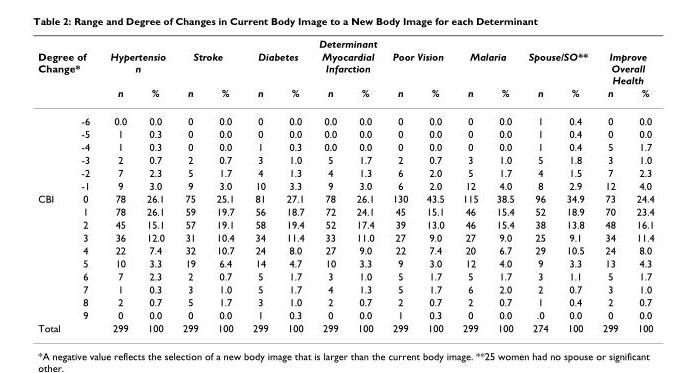table: (37, 37, 653, 333)
table column: (556, 37, 594, 333), (99, 37, 136, 333), (136, 37, 173, 333), (206, 37, 242, 333), (276, 37, 312, 333), (346, 37, 382, 333), (416, 37, 452, 333), (520, 37, 556, 333), (242, 37, 276, 333), (312, 37, 346, 333), (382, 37, 416, 333), (452, 37, 486, 333), (486, 37, 520, 333), (37, 37, 70, 333), (173, 37, 206, 333), (594, 37, 626, 333), (70, 37, 99, 333), (626, 37, 653, 333)
table column header: (37, 37, 653, 106)
table row: (37, 49, 653, 85), (37, 85, 653, 106), (37, 106, 653, 127), (37, 127, 653, 140), (37, 152, 653, 165), (37, 165, 653, 178), (37, 178, 653, 191), (37, 191, 653, 204), (37, 204, 653, 217), (37, 217, 653, 230), (37, 230, 653, 243), (37, 243, 653, 256), (37, 256, 653, 269), (37, 269, 653, 282), (37, 282, 653, 295), (37, 295, 653, 308), (37, 308, 653, 321), (37, 37, 653, 49), (37, 140, 653, 152), (37, 321, 653, 333)
table spanning cell: (37, 37, 653, 49), (37, 191, 70, 321), (99, 49, 173, 85), (520, 49, 594, 85), (242, 49, 312, 85), (312, 49, 382, 85), (382, 49, 452, 85), (173, 49, 242, 85), (452, 49, 520, 85), (37, 49, 99, 85), (594, 49, 653, 85)
